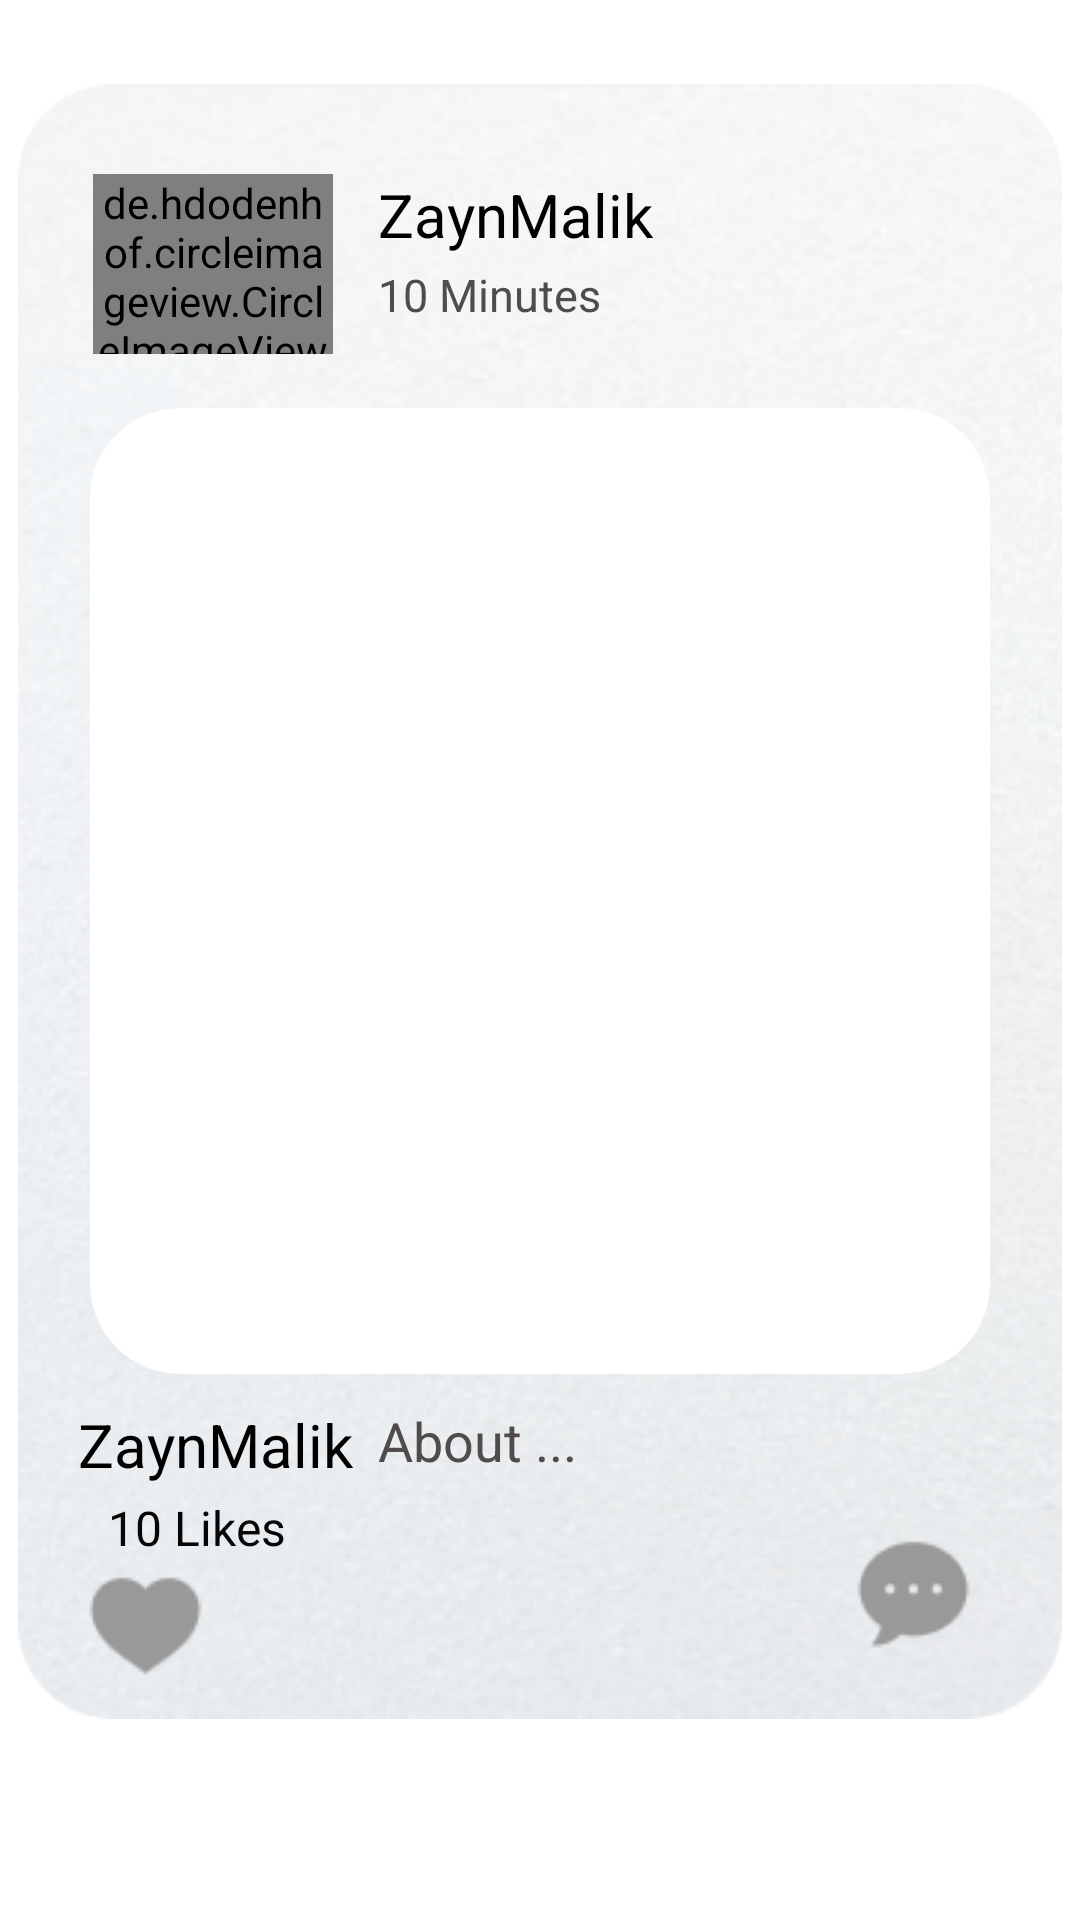

Icon bounding boxes for this 1080px×1920px phone screenshot, format BBox(x1, y1, x2, y2):
comment: BBox(858, 1541, 969, 1647)
favourite: BBox(90, 1577, 201, 1674)
